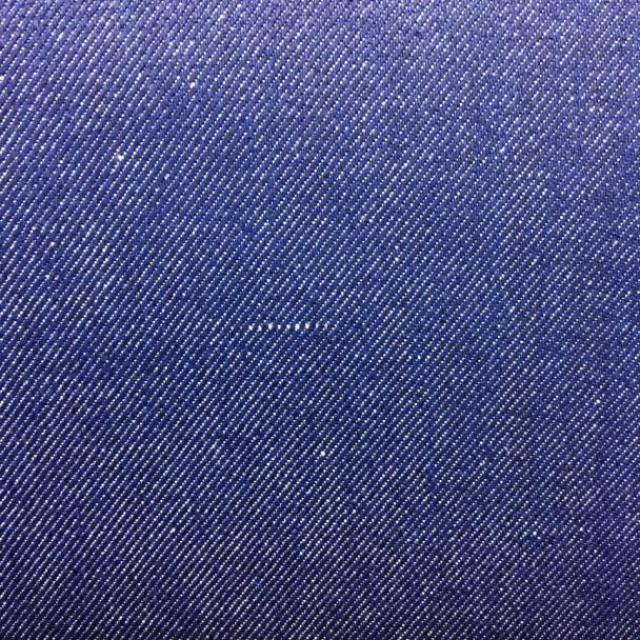Knot: (247, 321, 335, 333)
